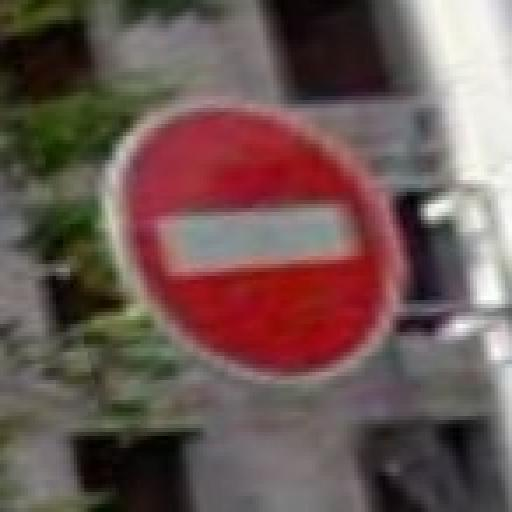traffic_sign: (106, 97, 408, 397)
